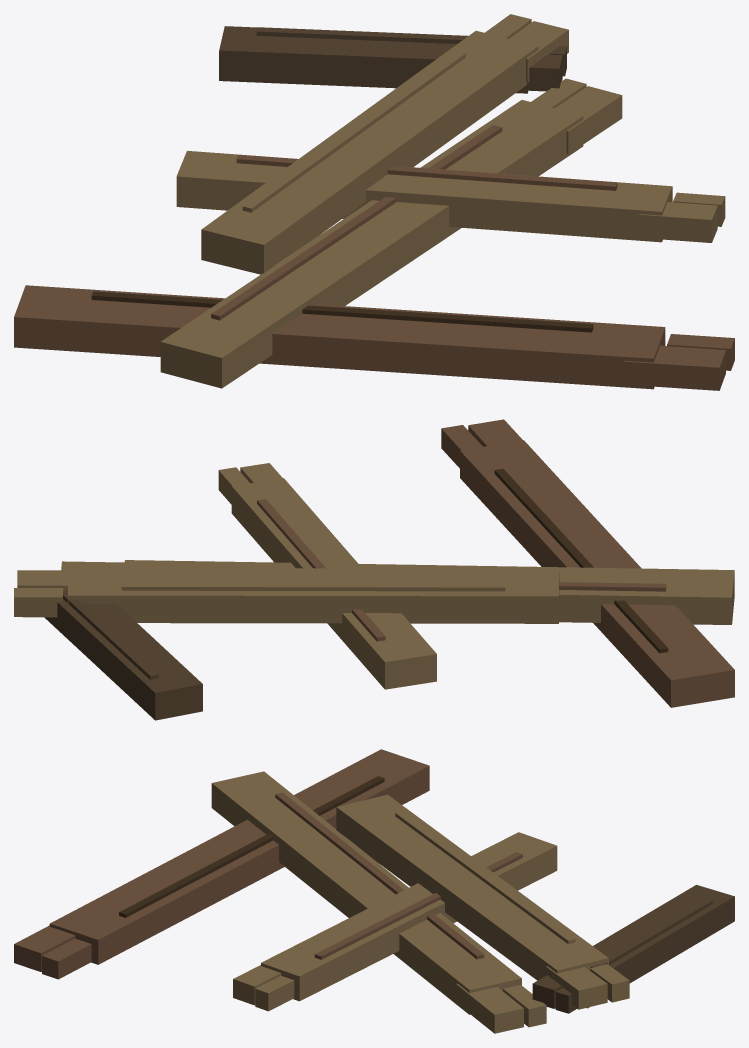
Rendered from CMU3DDecorFloorScrapwoodSouth.glb.
The picture shows the model from 3 angles, top to bottom: view 1: azimuth 30°, elevation 25°; view 2: azimuth 150°, elevation 25°; view 3: azimuth 270°, elevation 25°; orthographic projection. The views are drawn at different scales.
Visible parts, largest first — view 1: plank 1 body, plank 2 body, plank 5 body, plank 3 body, plank 4 body, plank 1 long grain, plank 1 splintered end, plank 2 long grain, plank 5 long grain, plank 3 long grain, plank 3 splintered end, plank 2 splintered end (+7 smaller); view 2: plank 5 body, plank 1 body, plank 3 body, plank 2 body, plank 4 body, plank 5 long grain, plank 1 long grain, plank 3 long grain, plank 5 short fracture tooth, plank 4 long grain, plank 1 splintered end, plank 1 short fracture tooth (+4 smaller); view 3: plank 1 body, plank 2 body, plank 5 body, plank 3 body, plank 4 body, plank 2 splintered end, plank 1 long grain, plank 2 long grain, plank 5 long grain, plank 5 splintered end, plank 3 long grain, plank 1 splintered end (+7 smaller).
Boxes of the visible parts, x1,y1,x2,y2 form: plank 1 body: (14,285,665,389); plank 2 body: (160,100,583,388); plank 5 body: (201,30,538,274); plank 3 body: (176,150,672,242); plank 4 body: (219,26,528,93); plank 1 long grain: (91,291,593,332); plank 1 splintered end: (624,345,725,390); plank 2 long grain: (211,125,502,320); plank 5 long grain: (242,51,465,212); plank 3 long grain: (236,154,617,190); plank 3 splintered end: (639,202,717,242); plank 2 splintered end: (555,86,622,154); plank 5 body: (68,568,559,623); plank 1 body: (460,440,734,707); plank 3 body: (231,478,436,689); plank 2 body: (124,560,734,624); plank 4 body: (44,591,202,720); plank 5 long grain: (121,583,505,591); plank 1 long grain: (494,468,668,653); plank 3 long grain: (257,499,385,641); plank 5 short fracture tooth: (14,588,63,617); plank 4 long grain: (63,590,158,679); plank 1 splintered end: (468,419,522,446); plank 1 short fracture tooth: (441,425,482,468); plank 1 body: (49,749,429,964); plank 2 body: (211,771,521,1014); plank 5 body: (336,794,608,980); plank 3 body: (261,832,557,1001); plank 4 body: (587,885,734,1008); plank 2 splintered end: (456,983,523,1033); plank 1 long grain: (119,776,384,917); plank 2 long grain: (275,792,484,959); plank 5 long grain: (395,811,575,944); plank 5 splintered end: (545,966,607,1009); plank 3 long grain: (314,852,522,959); plank 1 splintered end: (14,925,75,971).
Size of the model in its own units: 0.6746 by 0.069 by 0.7602.
